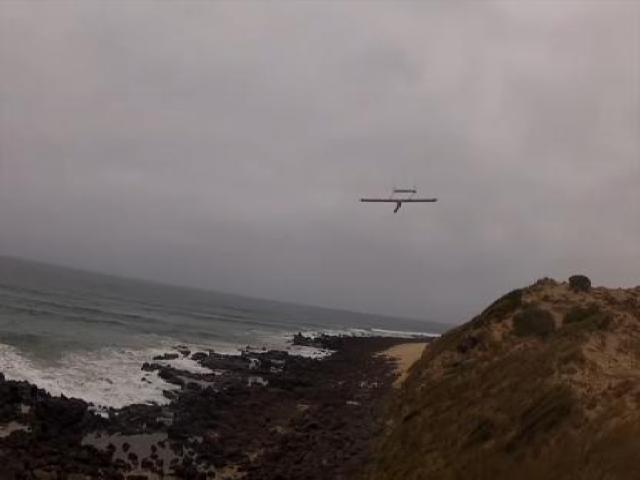uav: (353, 172, 444, 223)
